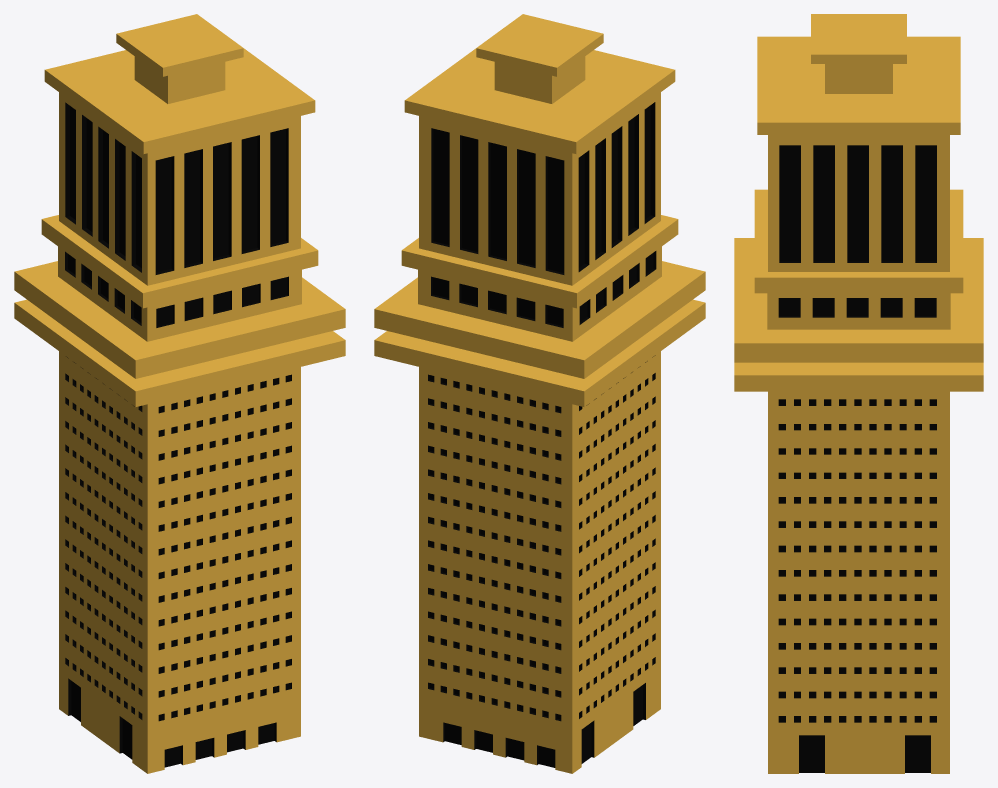
The model's file is lowploybuilding1.FBX.
3 views of the same model, side by side, from view 1: azimuth 30°, elevation 25°; view 2: azimuth 150°, elevation 25°; view 3: azimuth 270°, elevation 25° (orthographic). The views are drawn at different scales.
Parts seen in each view (by area): view 1: Box001; view 2: Box001; view 3: Box001.
Boxes of the visible parts, x1,y1,x2,y2 form: Box001: (14,14,345,773); Box001: (374,14,705,773); Box001: (734,14,983,773).
Bounding box in the file's own units: 135 × 418 × 135.
